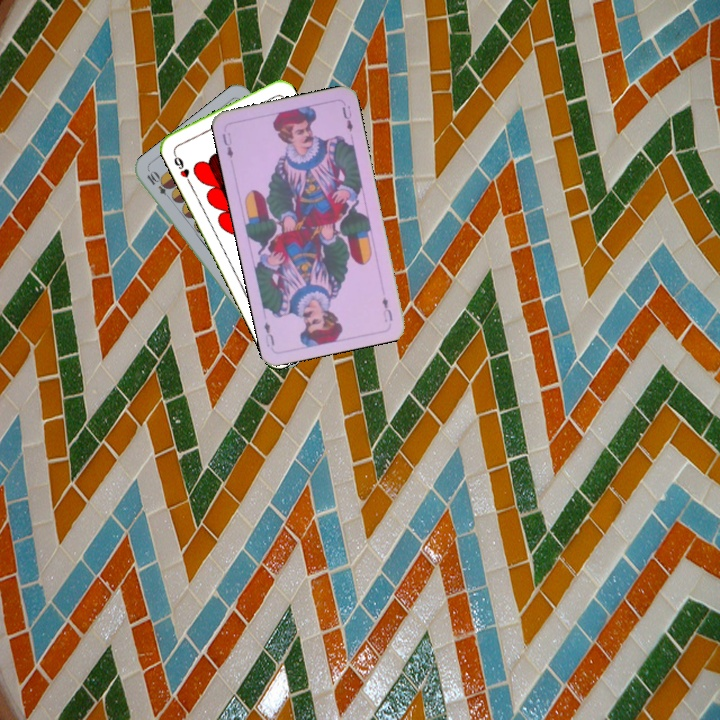E10: (143, 167, 175, 203)
EU: (218, 128, 236, 161), (378, 293, 395, 325)
H9: (169, 148, 193, 186)
